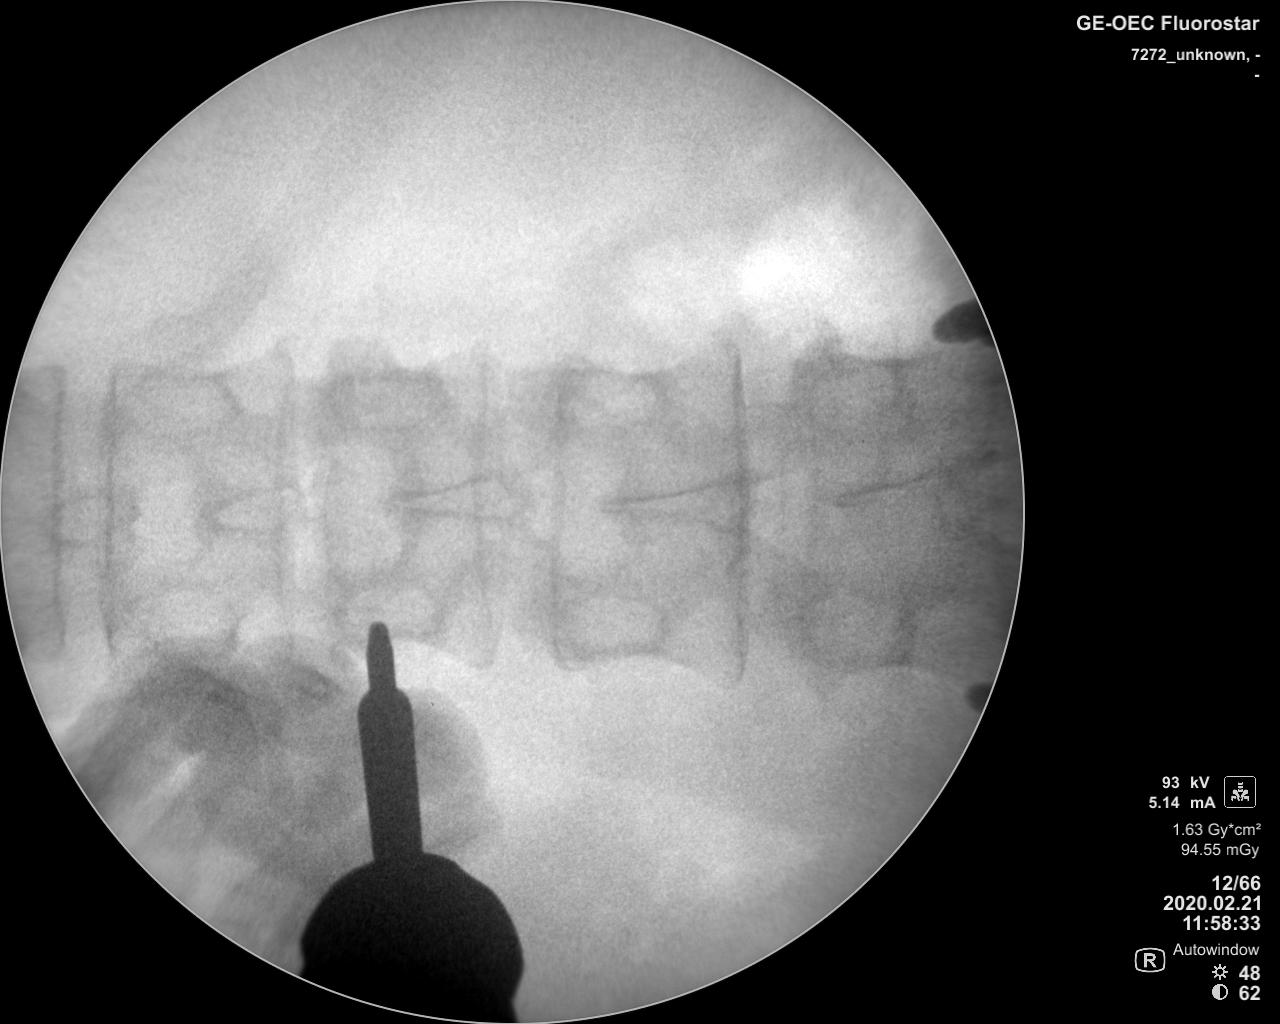eyes: (114, 356, 248, 440), (789, 585, 906, 677), (556, 581, 667, 670), (795, 343, 903, 429), (121, 576, 239, 654), (550, 355, 662, 437), (334, 359, 443, 436), (340, 576, 445, 644)
line: (460, 315, 511, 681), (715, 315, 754, 693), (85, 347, 127, 670), (540, 328, 577, 693), (271, 315, 303, 674), (40, 355, 73, 665)
nose: (827, 451, 985, 525), (595, 469, 766, 533), (374, 472, 528, 525), (28, 489, 152, 551), (197, 474, 311, 540)
